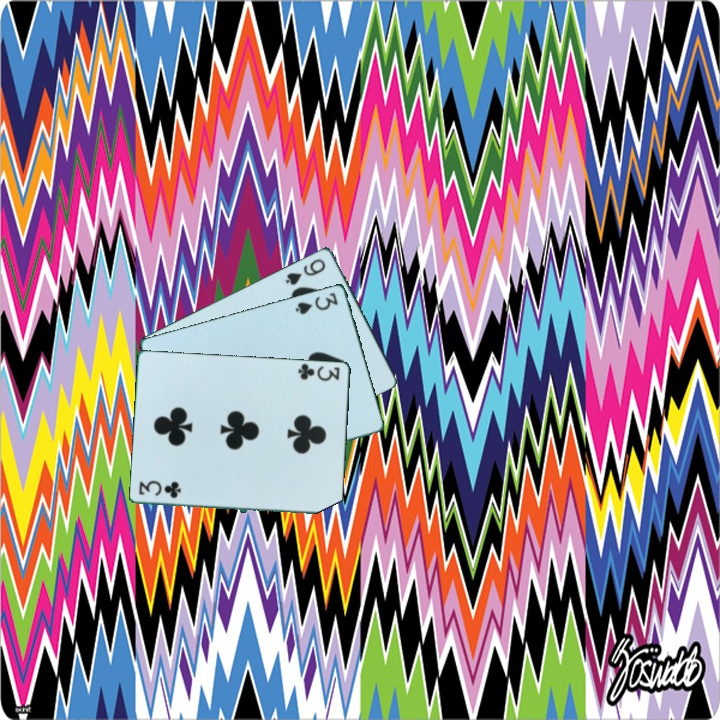3c: (295, 360, 343, 384), (135, 481, 184, 501)
3s: (292, 289, 341, 317)
9s: (282, 255, 329, 288)
